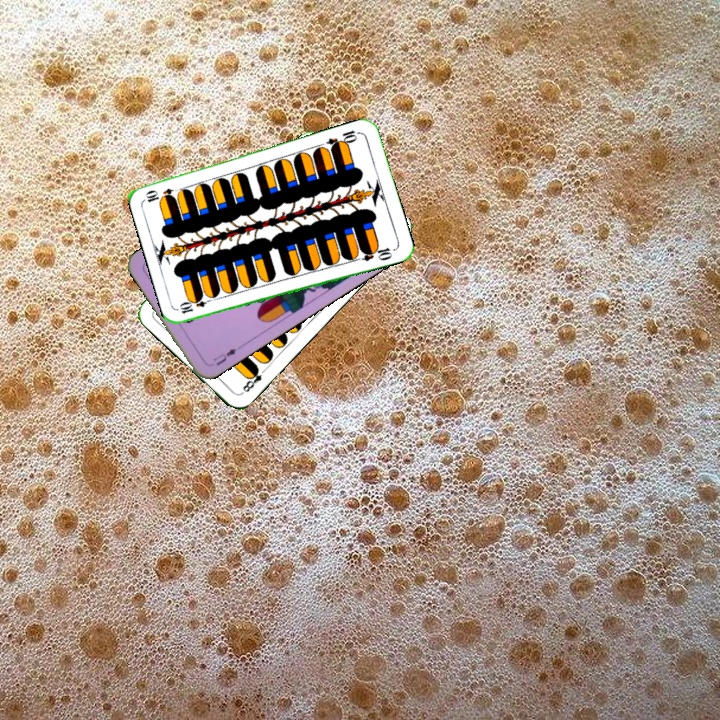E10: (323, 126, 363, 152), (176, 293, 216, 316)
E8: (237, 363, 269, 396)
EU: (209, 344, 239, 368)
